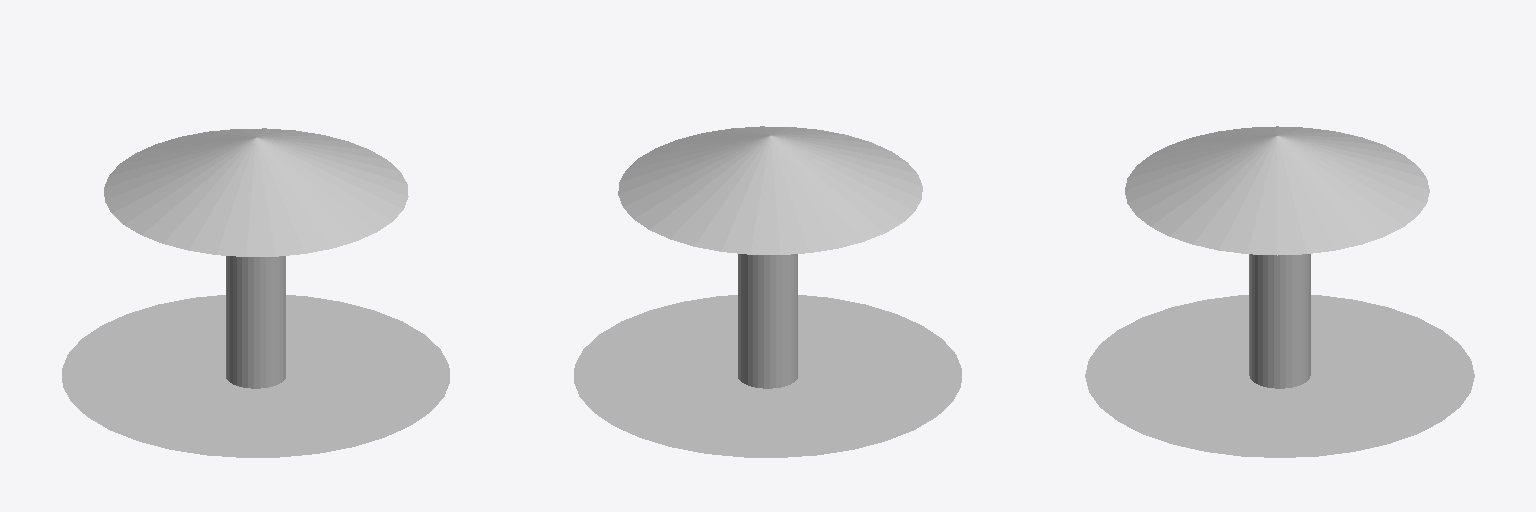
Rendered from pavillon_metal.obj.
3 renders of one model, left to right at view 1: azimuth 30°, elevation 25°; view 2: azimuth 150°, elevation 25°; view 3: azimuth 270°, elevation 25°, orthographic.
Parts seen in each view (by area): view 1: Cone; view 2: Cone; view 3: Cone.
Boxes of the visible parts, x1,y1,x2,y2 form: Cone: [62, 128, 449, 457]; Cone: [574, 126, 961, 457]; Cone: [1085, 126, 1474, 457].
Size of the model in its own units: 12.76 by 8.66 by 12.76.